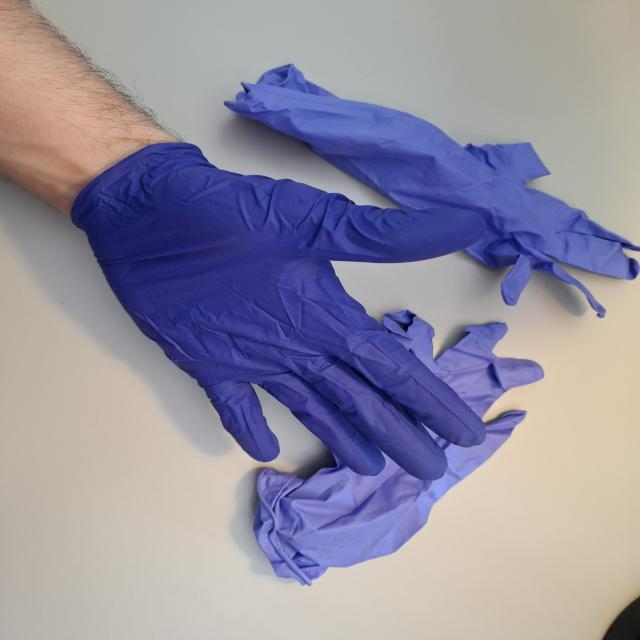glove_on: (68, 135, 490, 484)
